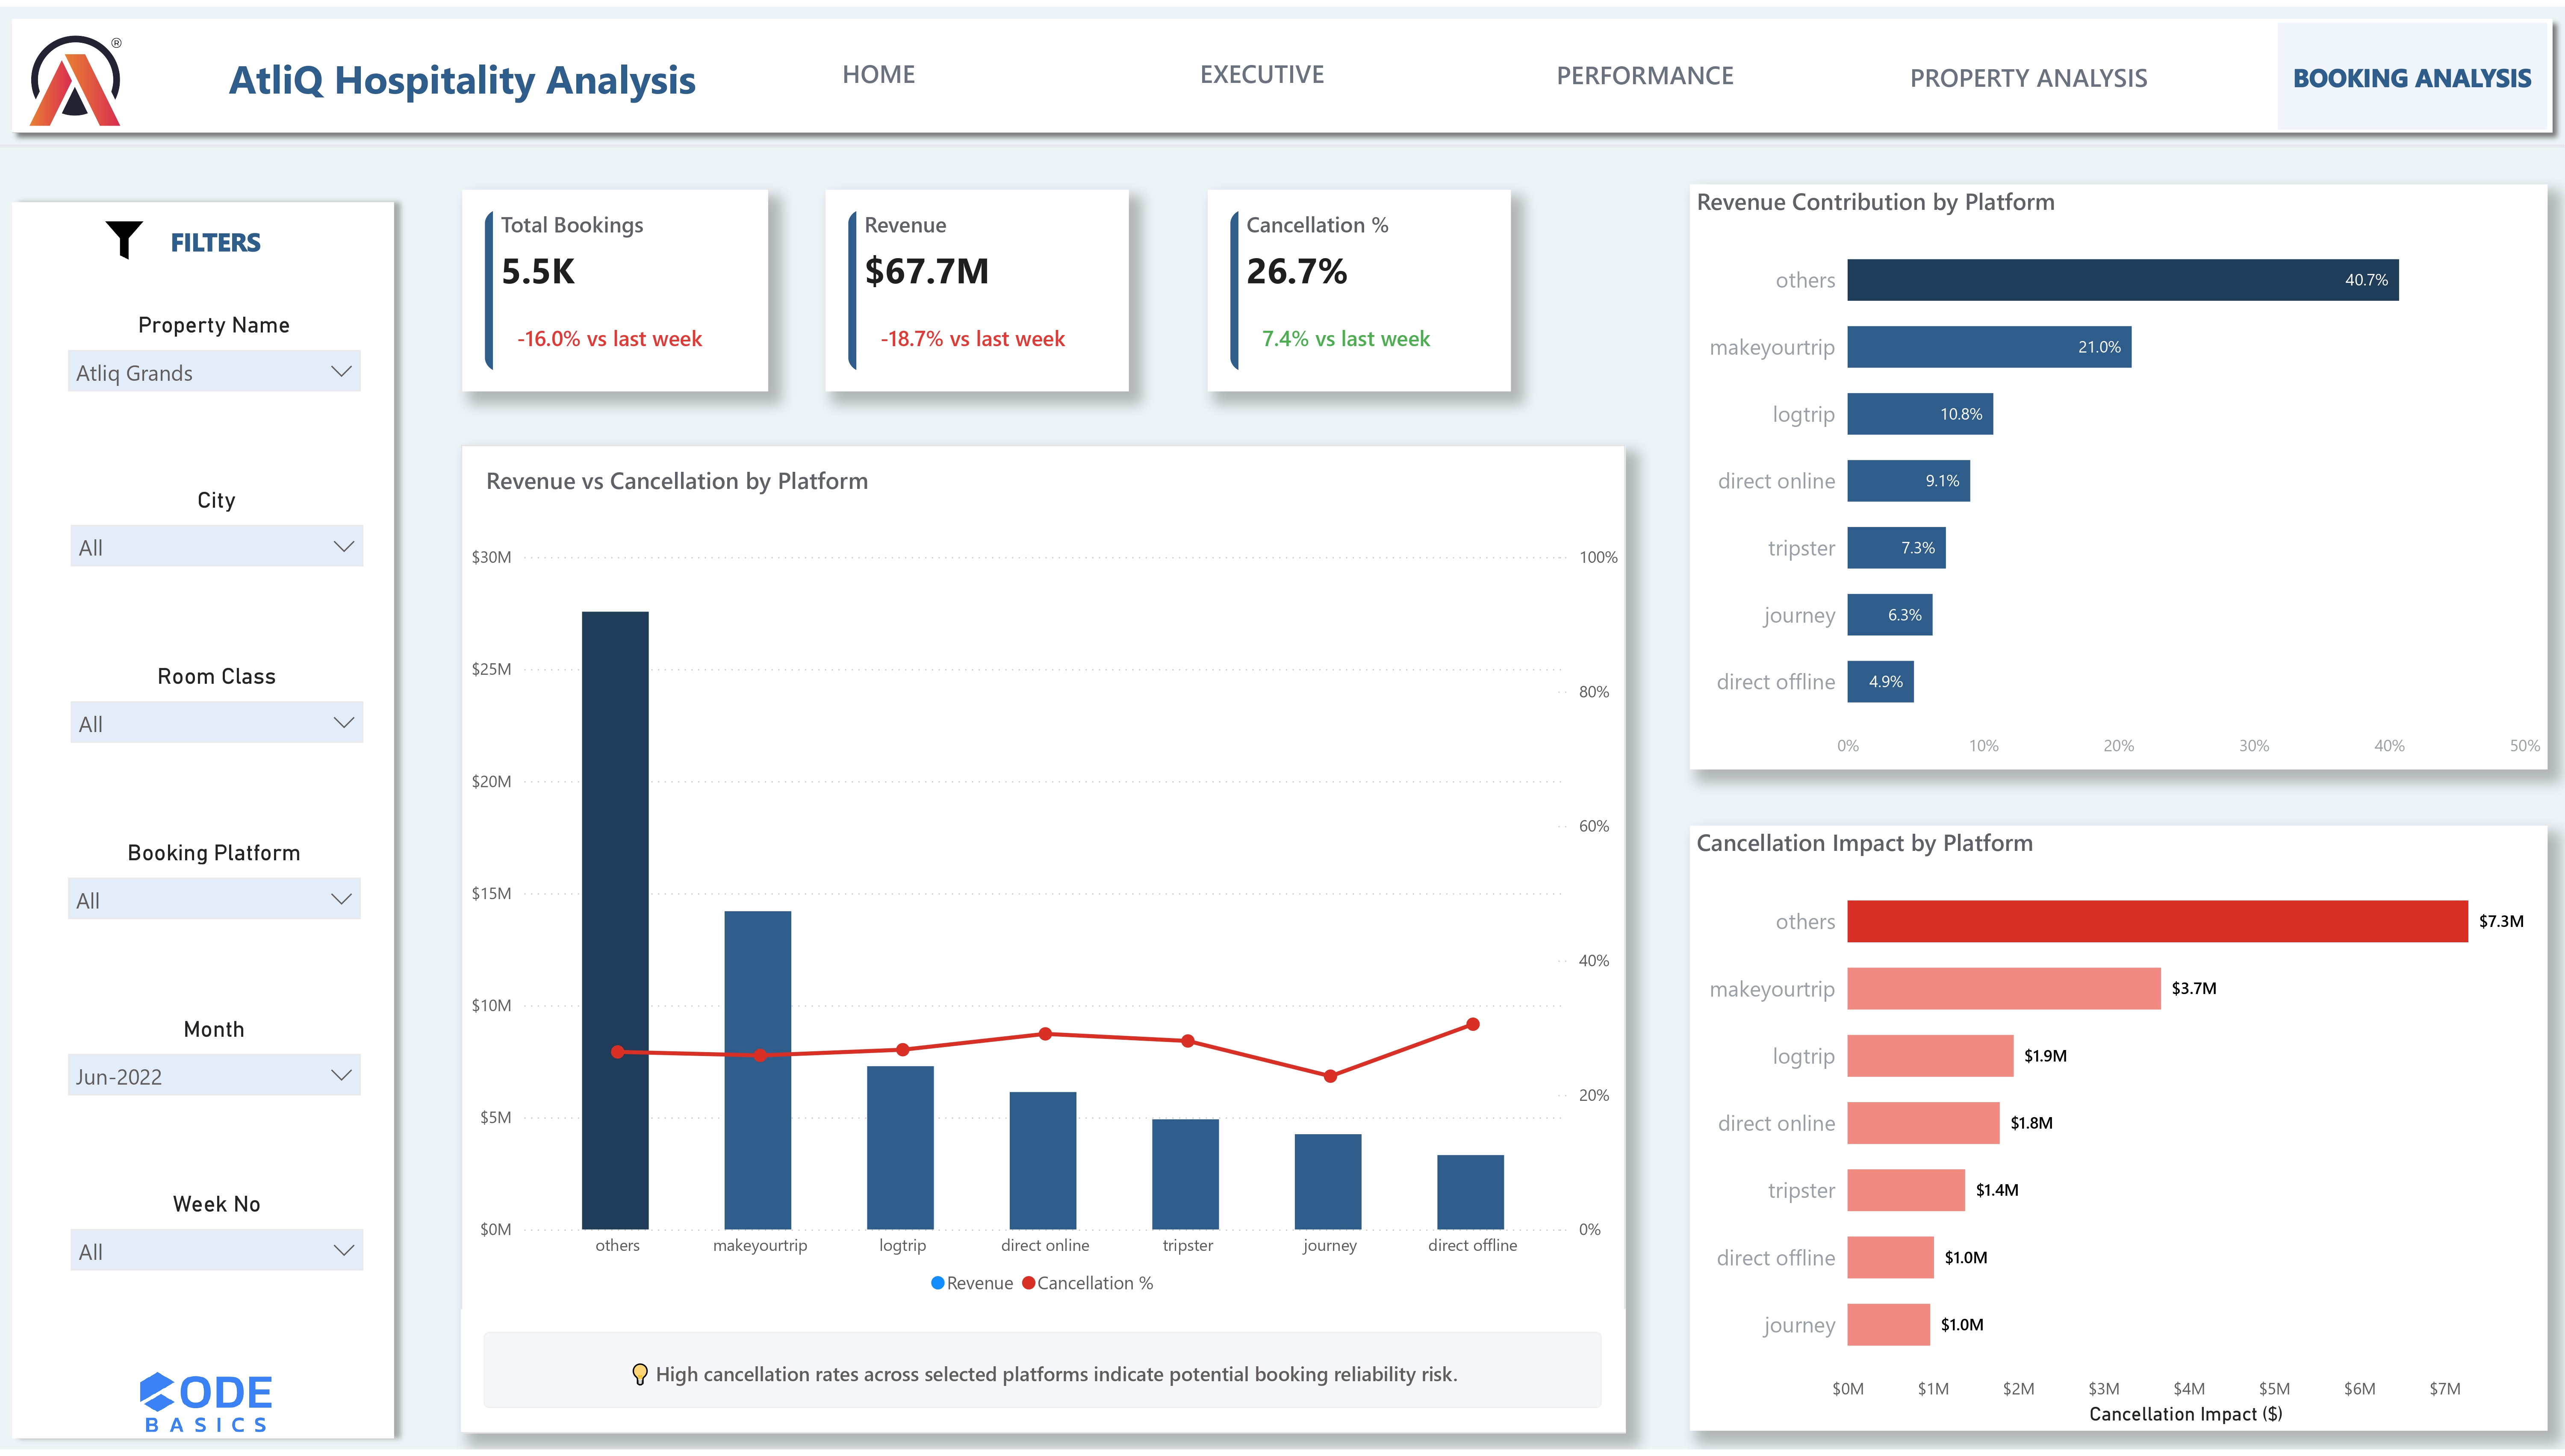

Layout of this report page (visuals, bound fields, positions):
{"tool":"powerbi","page":{"name":"Booking Analysis","canvas":[1920,1080],"ordinal":4},"visuals":[{"type":"shape","title":"Left_Filter Pane","box":[0,137,304,944],"z":0},{"type":"shape","title":"Top_Nav Bar","box":[0,0,1919.7,103.3],"z":1000},{"type":"shape","title":"Background: Trend","box":[345,328.3,871.7,740],"z":2000},{"type":"shape","title":"Divider Line","box":[0,86.9,1919.7,34.4],"z":3000},{"type":"image","title":"Atliq Logo","box":[21.3,13.1,72.1,83.6],"z":4000},{"type":"image","title":"CB Logo","box":[93.3,1021.7,121.7,45],"z":5000},{"type":"shape","title":"Main Trend Visual Title","box":[363.6,328.6,375.3,49.4],"z":6000},{"type":"shape","title":"Title text","box":[160.7,13.1,370.5,78.7],"z":7000},{"type":"shape","title":"Filters text","box":[101,156,121,38],"z":8000},{"type":"image","title":"Filter Icon","box":[74,156,38,38],"z":9000},{"type":"slicer","title":"Property Name","fields":{"Values":["dim_hotels.property_name"]},"box":[26.2,217.5,253.8,98.8],"z":10000},{"type":"slicer","title":"Booking Platform","fields":{"Values":["fact_bookings.booking_platform"]},"box":[26.2,612.8,253.8,98.8],"z":11000},{"type":"slicer","title":"Week No","fields":{"Values":["dim_date.week no"]},"box":[27.5,876.2,253.8,98.8],"z":12000},{"type":"slicer","title":"Room Class","fields":{"Values":["dim_rooms.room_class"]},"box":[27.5,481,253.8,98.8],"z":13000},{"type":"slicer","title":"City","fields":{"Values":["dim_hotels.city"]},"box":[27.5,349.2,253.8,98.8],"z":14000},{"type":"slicer","title":"Month","fields":{"Values":["dim_date.mmm yy"]},"box":[26.2,744.5,253.8,98.8],"z":15000},{"type":"actionButton","title":"HOME Button","box":[557.4,13.1,201.6,73.8],"z":16000},{"type":"actionButton","title":"EXECUTIVE Button","box":[844.4,13.1,201.6,73.8],"z":17000},{"type":"actionButton","title":"PERFORMANCE Button","box":[1131.4,12.5,201.1,77.9],"z":18000},{"type":"actionButton","title":"PROPERTY Button","box":[1417.9,13.3,201.7,78.3],"z":19000},{"type":"actionButton","title":"BOOKING Button","box":[1705,11.7,201.7,80],"z":20000},{"type":"clusteredBarChart","title":"Revenue Contribution by Platform","fields":{"Category":["fact_bookings.booking_platform"],"Y":["Key Measures.RC% by Platfrom"]},"box":[1265,133.3,641.7,438.3],"z":21000},{"type":"cardVisual","title":"KPI: Cancellation","fields":{"Data":["Key Measures.Cancellation %"]},"box":[904.2,136.9,226.9,151.3],"z":22000},{"type":"cardVisual","title":"KPI: Revenue","fields":{"Data":["Key Measures.Revenue Display"]},"box":[617.8,136.9,226.9,151.3],"z":23000},{"type":"cardVisual","title":"KPI: Total Bookings","fields":{"Data":["Key Measures.Total Bookings"]},"box":[345.8,136.9,228.7,151.3],"z":24000},{"type":"lineClusteredColumnComboChart","title":"Weekly Trend Visual","fields":{"Category":["fact_bookings.booking_platform"],"Y":["Key Measures.Total Revenue"],"Y2":["Key Measures.Cancellation %"]},"box":[346.7,398.3,870,576.7],"z":25000},{"type":"cardVisual","title":"Insight text","fields":{"Data":["Key Measures.Booking Insight"]},"box":[345,975,871.7,91.7],"z":26000},{"type":"clusteredBarChart","title":"Cancellation Impact by Platform","fields":{"Y":["Key Measures.Cancellation Impact ($)"],"Category":["fact_bookings.booking_platform"]},"box":[1265,613.3,641.7,453.3],"z":27000}]}

Visuals, with their boxes in screenshot pixels (x1, y1, x2, y2), scaled from the page's 1920x1080 canvas onto the 2565x1456 screenshot:
"Left_Filter Pane" shape: 0,185,406,1456
"Top_Nav Bar" shape: 0,0,2565,139
"Background: Trend" shape: 461,443,1625,1440
"Divider Line" shape: 0,117,2565,164
"Atliq Logo" image: 29,18,125,130
"CB Logo" image: 125,1377,287,1438
"Main Trend Visual Title" shape: 486,443,987,509
"Title text" shape: 215,18,710,124
"Filters text" shape: 135,210,297,262
"Filter Icon" image: 99,210,150,262
"Property Name" slicer: 35,293,374,427
"Booking Platform" slicer: 35,826,374,959
"Week No" slicer: 37,1181,376,1315
"Room Class" slicer: 37,648,376,782
"City" slicer: 37,471,376,604
"Month" slicer: 35,1004,374,1137
"HOME Button" actionButton: 745,18,1014,117
"EXECUTIVE Button" actionButton: 1128,18,1397,117
"PERFORMANCE Button" actionButton: 1512,17,1780,122
"PROPERTY Button" actionButton: 1894,18,2164,124
"BOOKING Button" actionButton: 2278,16,2547,124
"Revenue Contribution by Platform" clusteredBarChart: 1690,180,2547,771
"KPI: Cancellation" cardVisual: 1208,185,1511,388
"KPI: Revenue" cardVisual: 826,185,1129,388
"KPI: Total Bookings" cardVisual: 462,185,767,388
"Weekly Trend Visual" lineClusteredColumnComboChart: 463,537,1625,1315
"Insight text" cardVisual: 461,1315,1625,1438
"Cancellation Impact by Platform" clusteredBarChart: 1690,827,2547,1438
